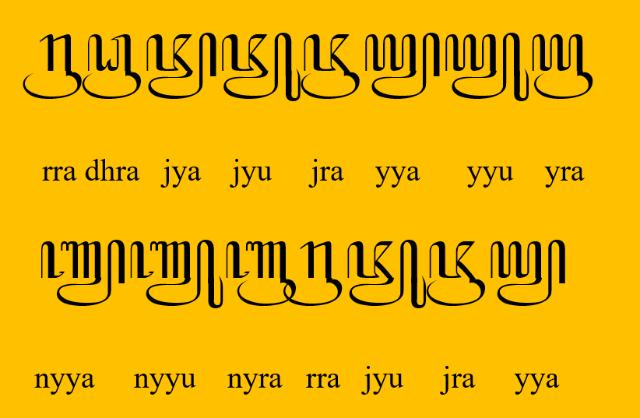dhr: (82, 34, 142, 100)
jr: (300, 34, 360, 100), (426, 240, 486, 306)
jy: (145, 31, 217, 99)
jyu: (348, 238, 427, 310), (221, 32, 301, 102)
nyr: (226, 240, 296, 308)
nyy: (41, 239, 126, 307)
nyyu: (130, 239, 224, 308)
rr: (23, 33, 82, 98), (284, 240, 342, 306)
yr: (531, 33, 593, 98)
yy: (365, 32, 441, 100), (490, 238, 566, 305)
yyu: (444, 32, 530, 102)
